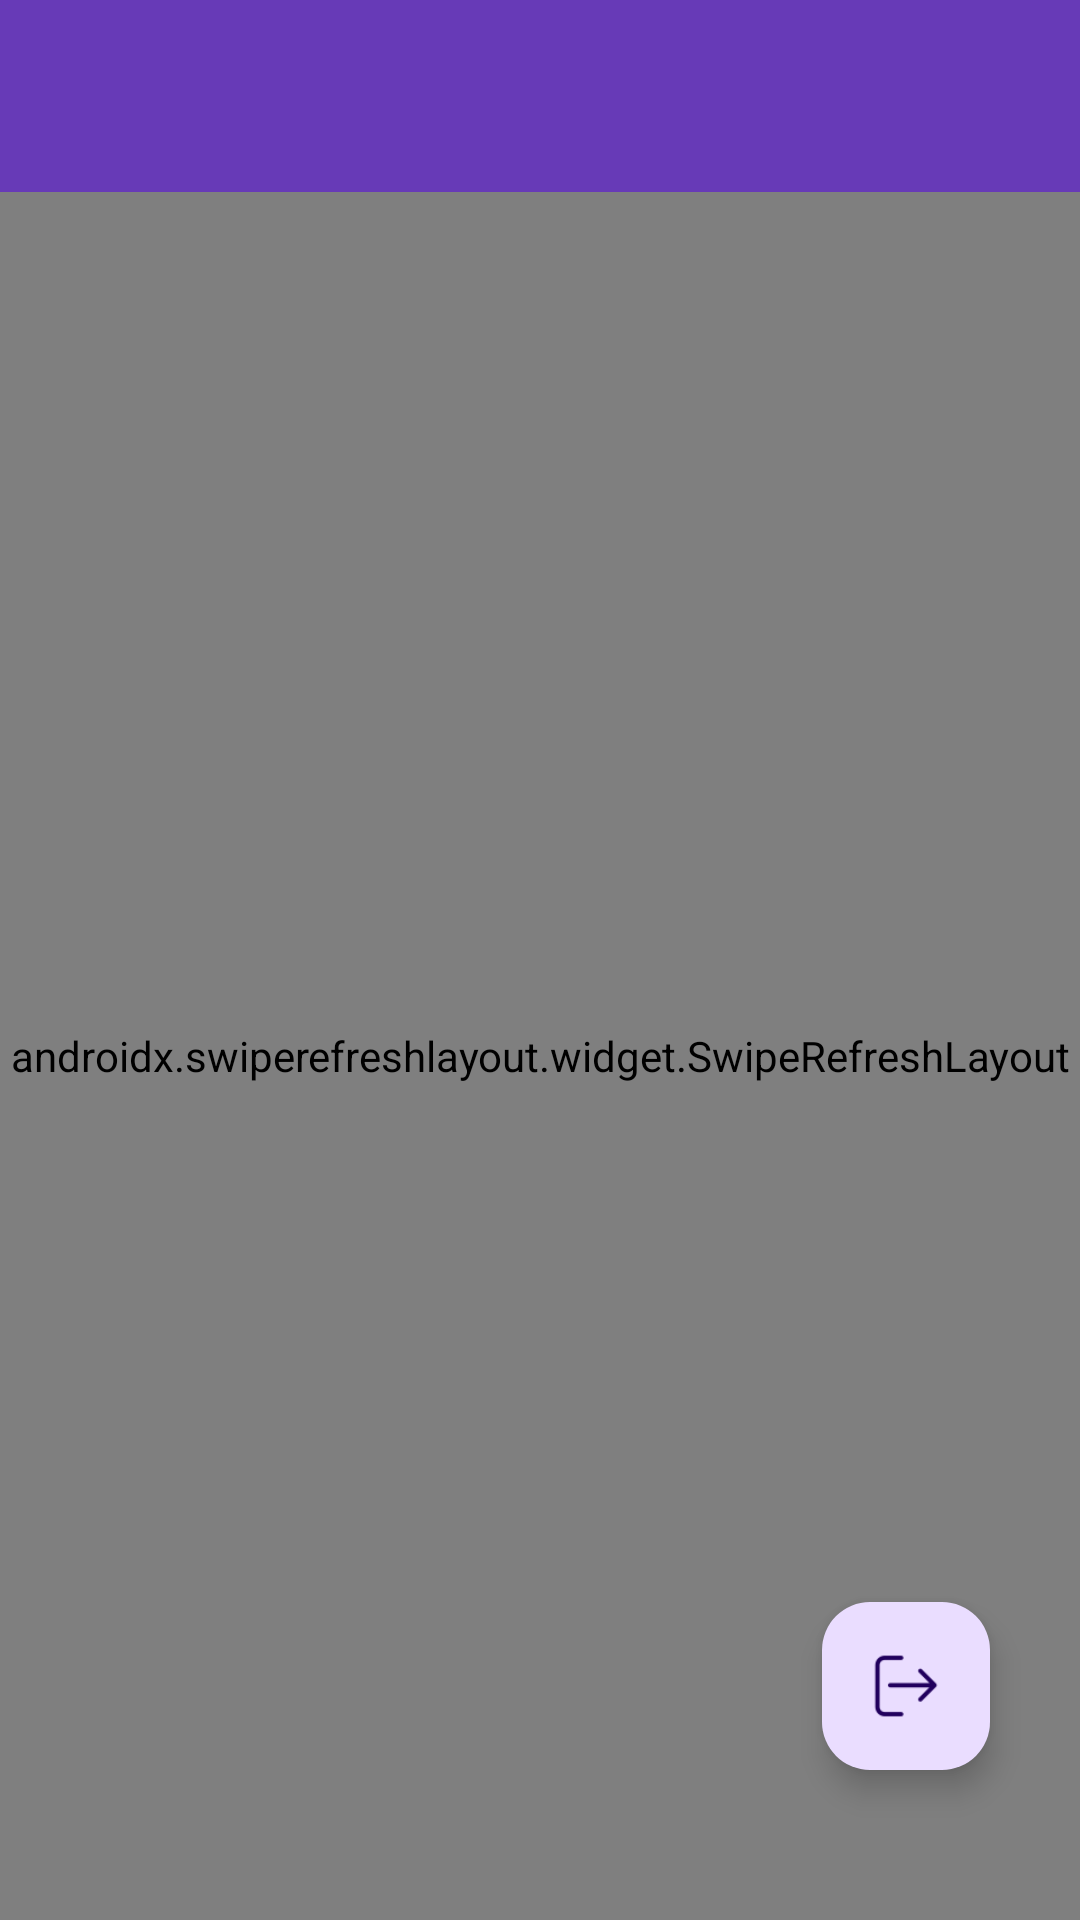

Icon click points for this 1080px x 1920px phone screenshot, format [x,y]:
log out: [906,1686]
